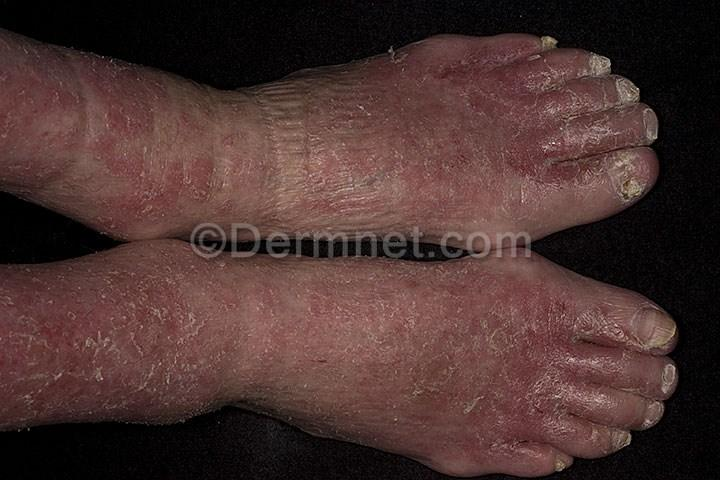Eczema: (243, 282, 399, 404), (403, 255, 549, 371), (383, 90, 496, 208), (0, 278, 135, 372), (256, 149, 379, 247), (90, 71, 202, 172), (128, 265, 242, 363), (485, 85, 583, 194), (472, 361, 567, 457), (95, 173, 229, 237), (288, 69, 379, 152), (558, 275, 644, 360), (446, 38, 534, 95), (590, 157, 651, 207), (593, 113, 638, 160)
